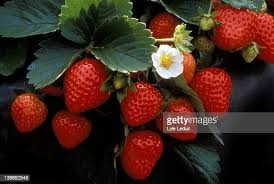ripe: (62, 53, 117, 110), (190, 64, 232, 122), (119, 128, 163, 181), (117, 81, 166, 128), (162, 93, 203, 144), (51, 108, 91, 149), (10, 92, 48, 132), (170, 45, 197, 86), (36, 75, 70, 100), (250, 37, 273, 64), (212, 38, 249, 51)
unripe: (196, 38, 214, 58), (242, 42, 258, 63)
